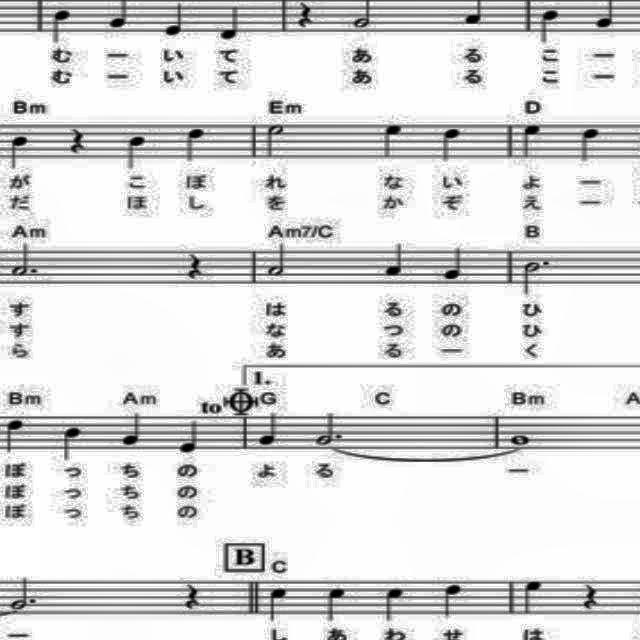Full-note: (504, 432, 536, 448)
Half-dot: (517, 253, 555, 300), (8, 572, 44, 616), (8, 240, 44, 282), (310, 406, 346, 448)
Half-note: (262, 120, 290, 163), (264, 238, 290, 278), (348, 1, 376, 32)
Quarter-note: (518, 574, 550, 618), (438, 578, 469, 622), (437, 122, 468, 166), (577, 122, 607, 166), (379, 118, 409, 162), (264, 582, 294, 626), (380, 237, 410, 281), (58, 420, 88, 464), (180, 122, 210, 166), (518, 120, 548, 163), (48, 5, 78, 48), (534, 5, 564, 48), (439, 242, 468, 286), (321, 582, 351, 624), (379, 582, 409, 624), (175, 417, 205, 459), (117, 409, 147, 451), (124, 128, 152, 172), (216, 1, 244, 44), (161, 0, 191, 40), (6, 130, 34, 172), (1, 414, 29, 456), (256, 408, 284, 450)
Quarter-rest: (180, 247, 208, 285), (180, 574, 208, 610), (578, 577, 604, 615), (64, 121, 90, 159), (293, 0, 319, 32)
